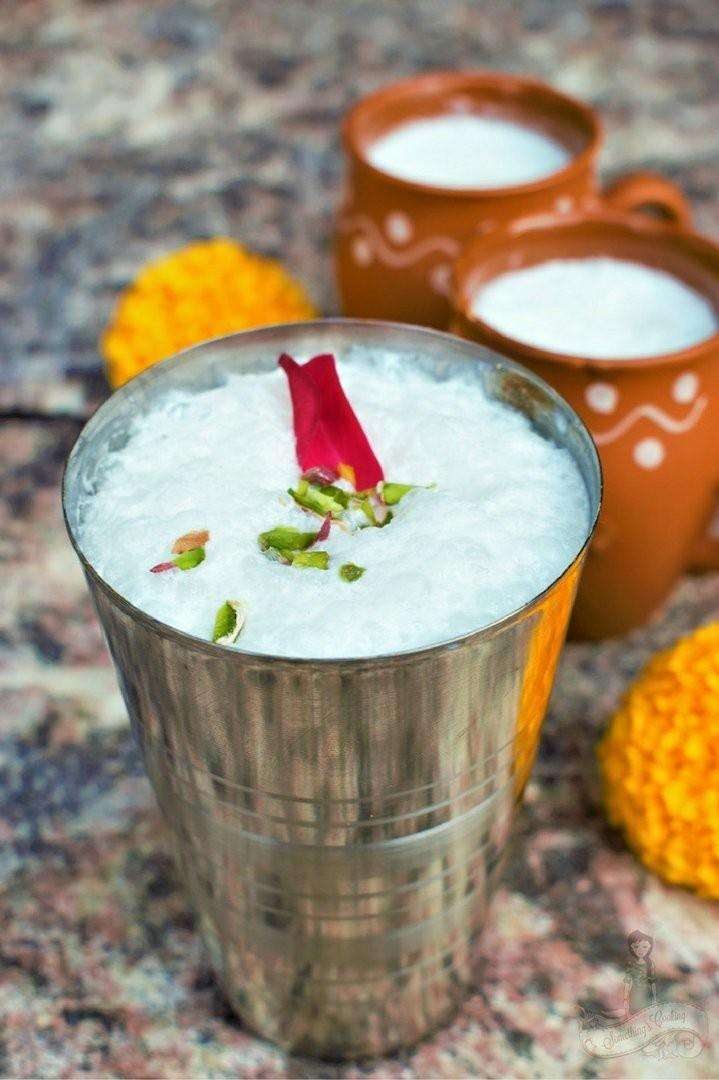Lassi: (82, 332, 590, 659), (478, 260, 717, 361), (367, 110, 569, 189)
